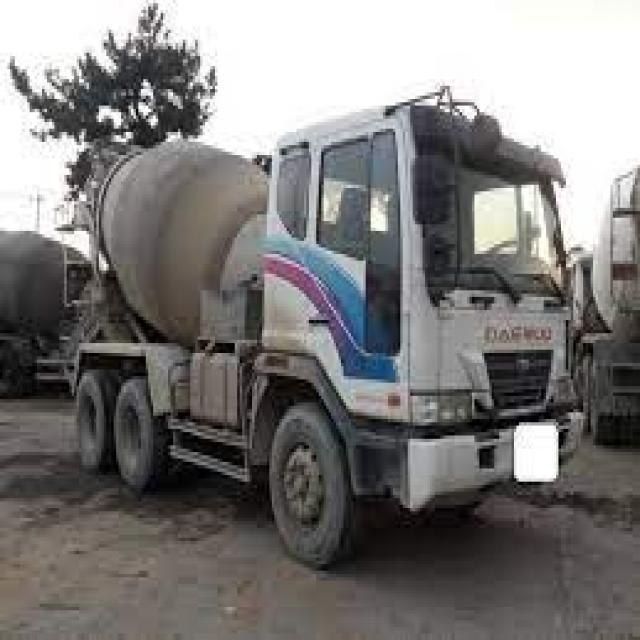Mixer Truck: (58, 87, 583, 575), (561, 155, 640, 445), (0, 225, 114, 400)
